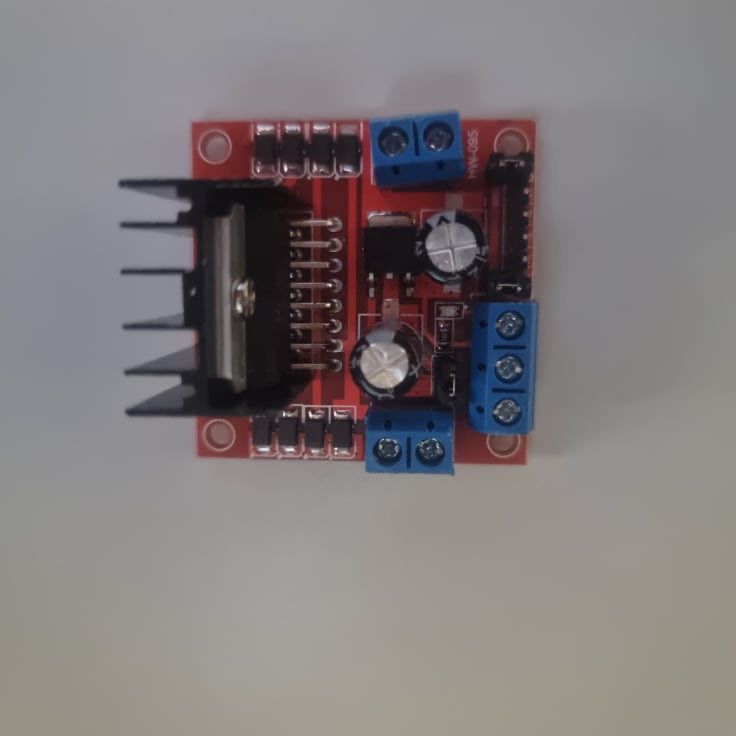MOTOR: (115, 111, 536, 475)
